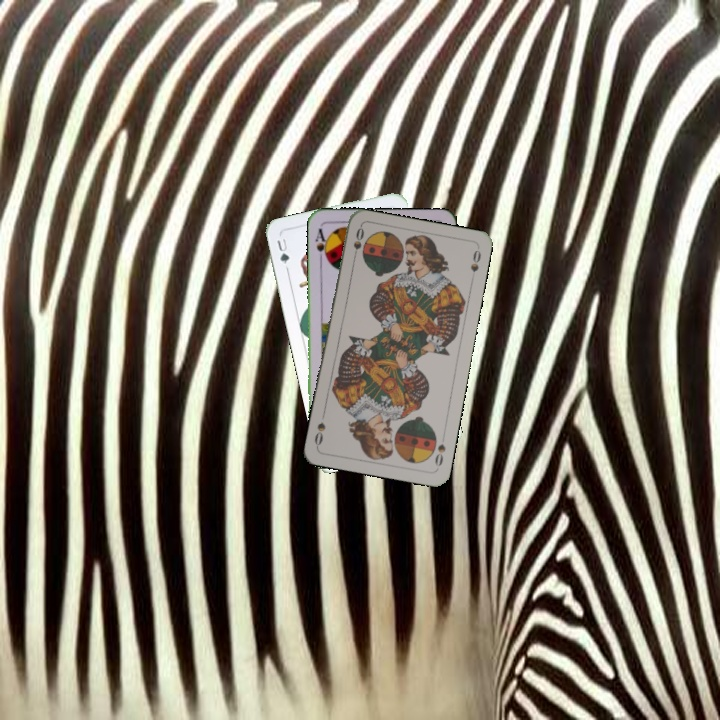GU: (273, 234, 292, 273)
SA: (311, 224, 330, 264)
SO: (349, 223, 367, 264), (431, 440, 448, 471)
